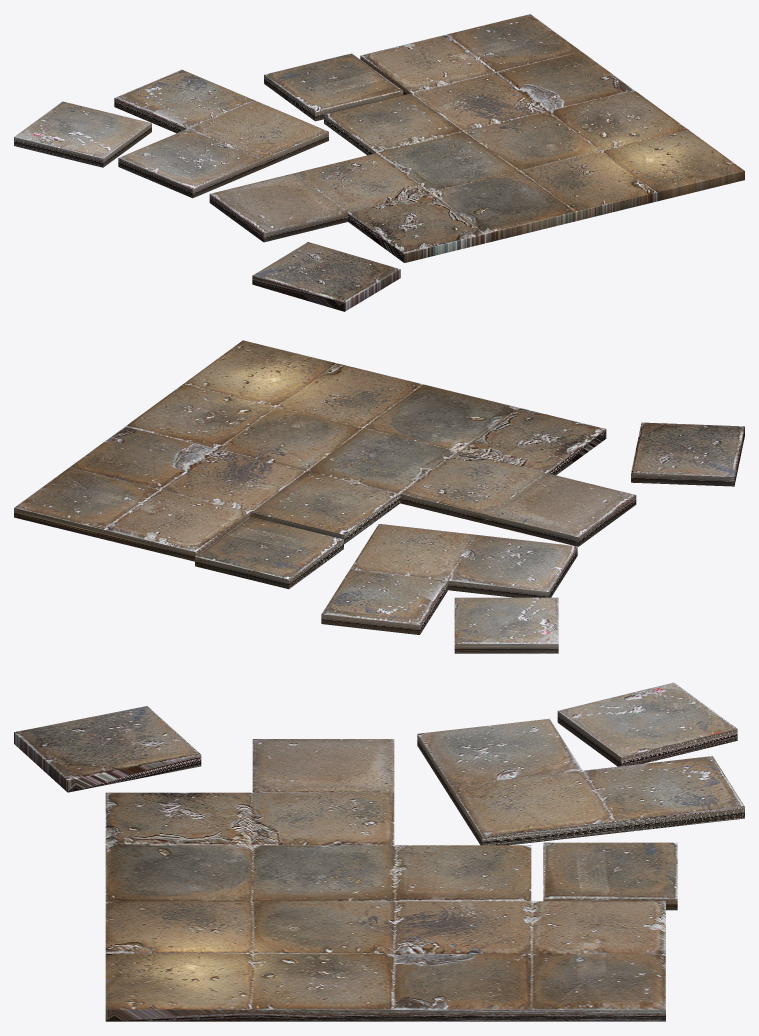
The model's file is Piso.FBX.
The picture shows the model from 3 angles, top to bottom: view 1: azimuth 30°, elevation 25°; view 2: azimuth 150°, elevation 25°; view 3: azimuth 270°, elevation 25°; orthographic projection. The views are drawn at different scales.
Parts seen in each view (by area): view 1: Piso; view 2: Piso; view 3: Piso.
Boxes of the visible parts, x1,y1,x2,y2 form: Piso: [14, 14, 744, 311]; Piso: [14, 340, 744, 653]; Piso: [14, 682, 744, 1021].
Bounding box in the file's own units: 206 × 5.21 × 194.
